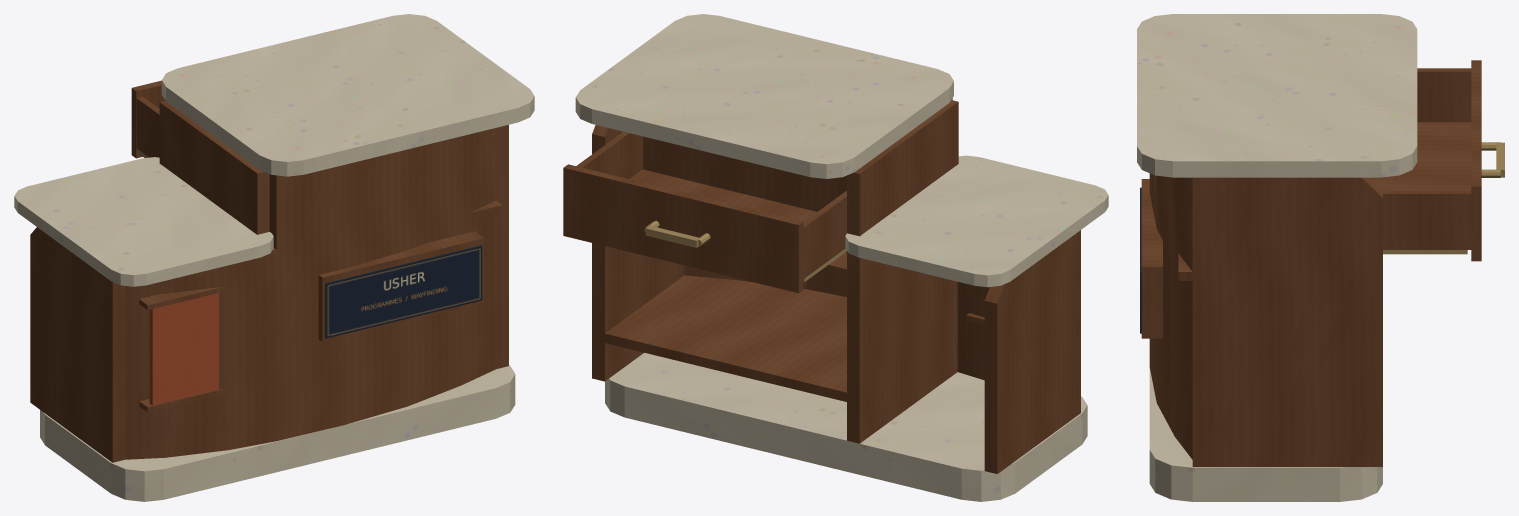
The model's file is AST-CUL-002_access.glb.
The picture shows the model from 3 angles, left to right: view 1: azimuth 30°, elevation 25°; view 2: azimuth 150°, elevation 25°; view 3: azimuth 270°, elevation 25°; orthographic projection. The views are drawn at different scales.
Visible parts, largest first — view 1: AST-CUL-002_access__AST-CUL-002__warm_walnut, AST-CUL-002_access__AST-CUL-002__warm_stone, AST-CUL-002_access__AST-CUL-002__usher_original, AST-CUL-002_access__AST-CUL-002__auditorium_amber_velvet, AST-CUL-002_access__USHER_DRAWER__warm_walnut; view 2: AST-CUL-002_access__AST-CUL-002__warm_stone, AST-CUL-002_access__AST-CUL-002__warm_walnut, AST-CUL-002_access__USHER_DRAWER__warm_walnut, AST-CUL-002_access__USHER_DRAWER__champagne_metal; view 3: AST-CUL-002_access__AST-CUL-002__warm_walnut, AST-CUL-002_access__AST-CUL-002__warm_stone, AST-CUL-002_access__USHER_DRAWER__warm_walnut, AST-CUL-002_access__USHER_DRAWER__champagne_metal.
Part boxes in pixels (bbox=[...]): AST-CUL-002_access__AST-CUL-002__warm_walnut: bbox=[30, 101, 508, 462]; AST-CUL-002_access__AST-CUL-002__warm_stone: bbox=[14, 14, 534, 501]; AST-CUL-002_access__AST-CUL-002__usher_original: bbox=[325, 245, 482, 338]; AST-CUL-002_access__AST-CUL-002__auditorium_amber_velvet: bbox=[149, 293, 218, 405]; AST-CUL-002_access__USHER_DRAWER__warm_walnut: bbox=[131, 80, 165, 158]; AST-CUL-002_access__AST-CUL-002__warm_stone: bbox=[575, 14, 1108, 501]; AST-CUL-002_access__AST-CUL-002__warm_walnut: bbox=[592, 98, 1080, 473]; AST-CUL-002_access__USHER_DRAWER__warm_walnut: bbox=[563, 131, 846, 293]; AST-CUL-002_access__USHER_DRAWER__champagne_metal: bbox=[644, 220, 846, 282]; AST-CUL-002_access__AST-CUL-002__warm_walnut: bbox=[1141, 173, 1382, 466]; AST-CUL-002_access__AST-CUL-002__warm_stone: bbox=[1137, 14, 1417, 501]; AST-CUL-002_access__USHER_DRAWER__warm_walnut: bbox=[1369, 60, 1481, 261]; AST-CUL-002_access__USHER_DRAWER__champagne_metal: bbox=[1383, 142, 1504, 254].
Size of the model in its own units: 1.51 by 1.07 by 1.02.
Materials: 5 (5 with a texture image).
